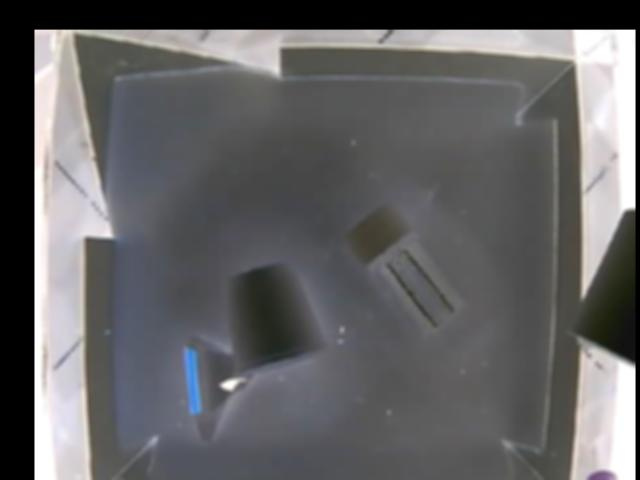Bottle: (347, 206, 468, 336)
China: (185, 342, 254, 440)
Cup: (227, 259, 329, 377)
